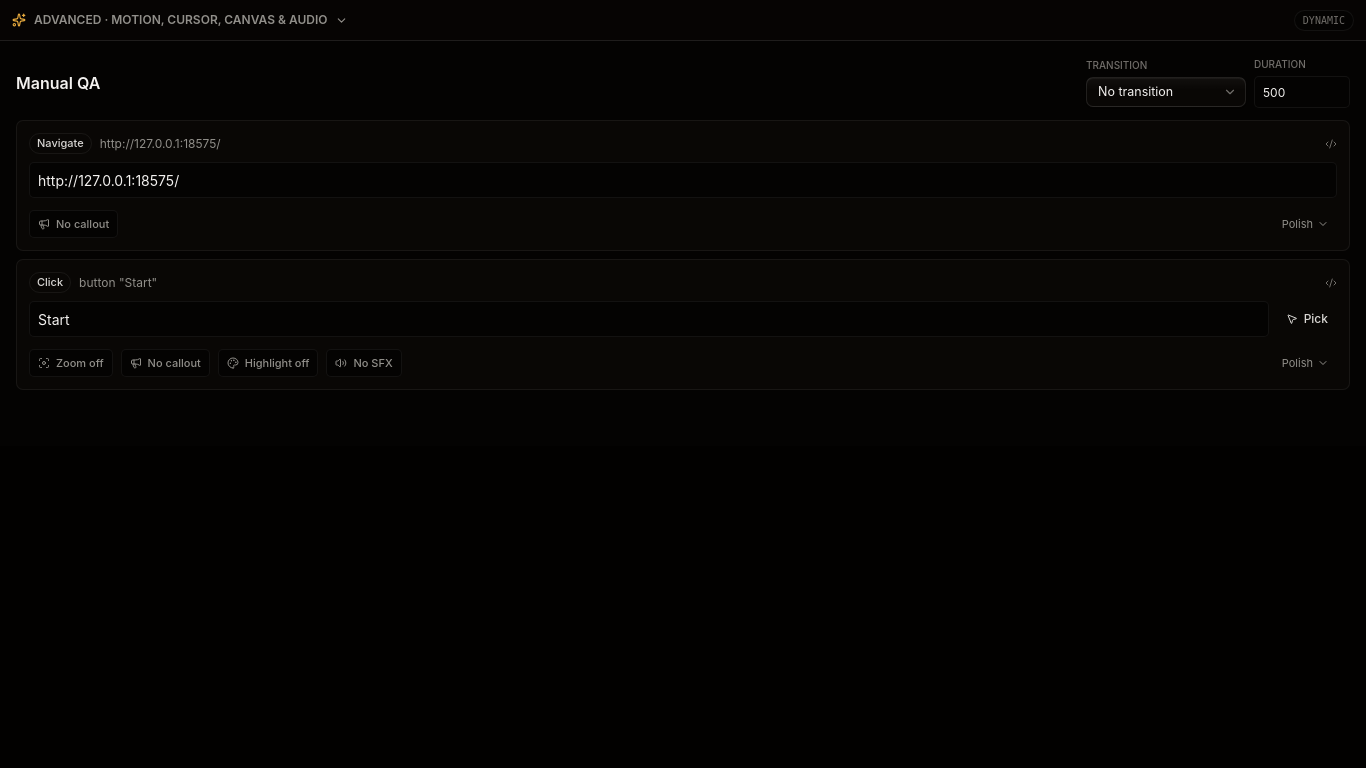
Test: StoryBuilder UI/code synchronization › defaults zoom duration to 1600 ms and clamps manual input to 900 ms
The width and height of the screenshot is (1366, 768).
Click the button "Advanced · Motion, Cursor, Canvas & Audio": (181,20) [34, 11, 1286, 29]
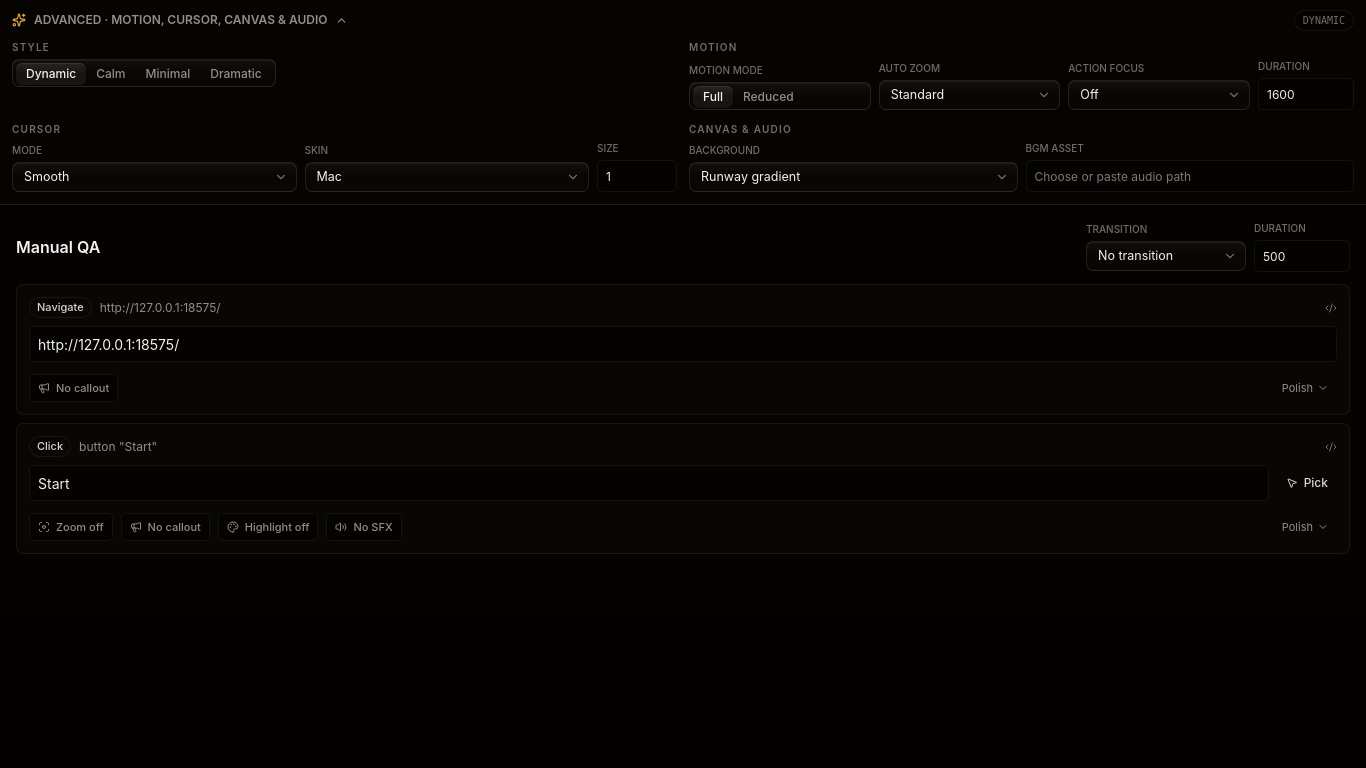
Result: the number field named "Auto zoom duration" holds "1600"
Replace the text in the number field named "Auto zoom duration" with "500": (1306,94) [1258, 78, 1354, 110]
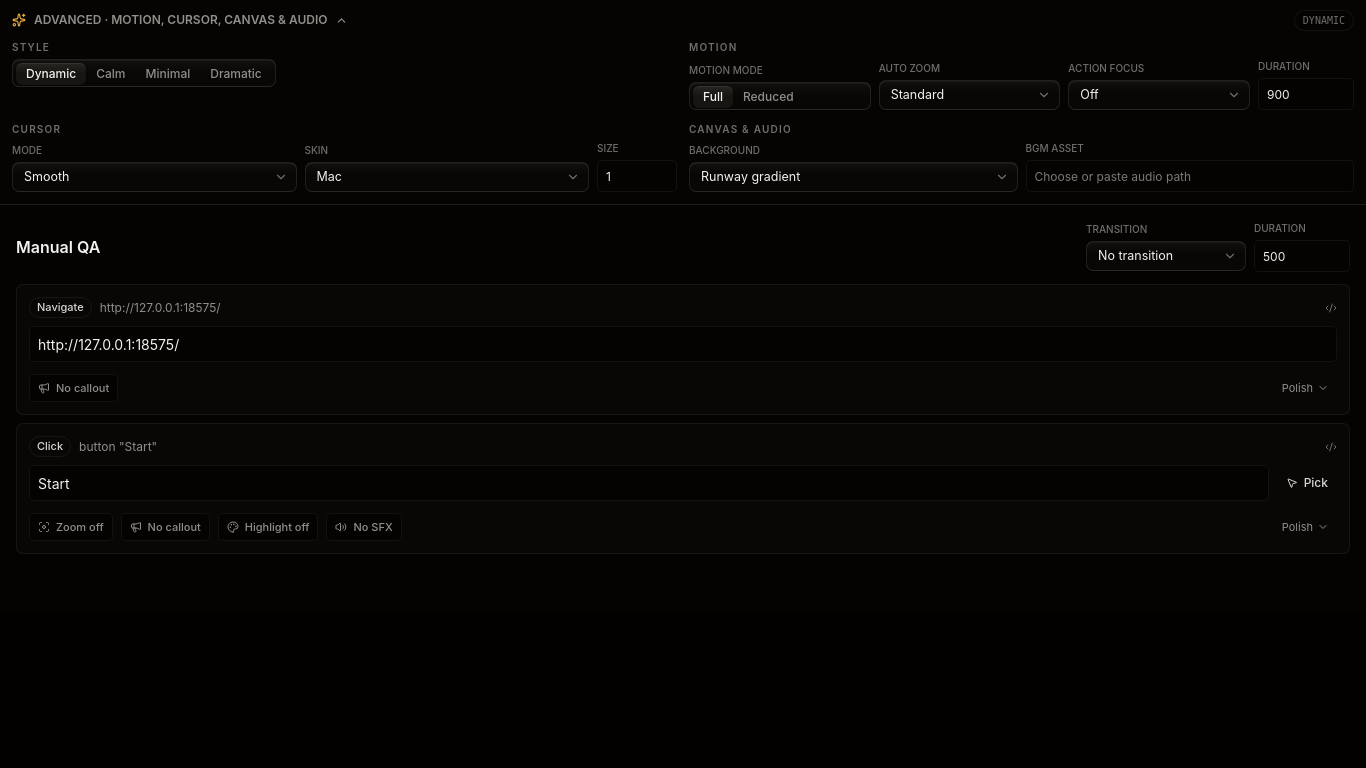
Result: the number field named "Auto zoom duration" holds "900" at [1258, 78, 1354, 110]
